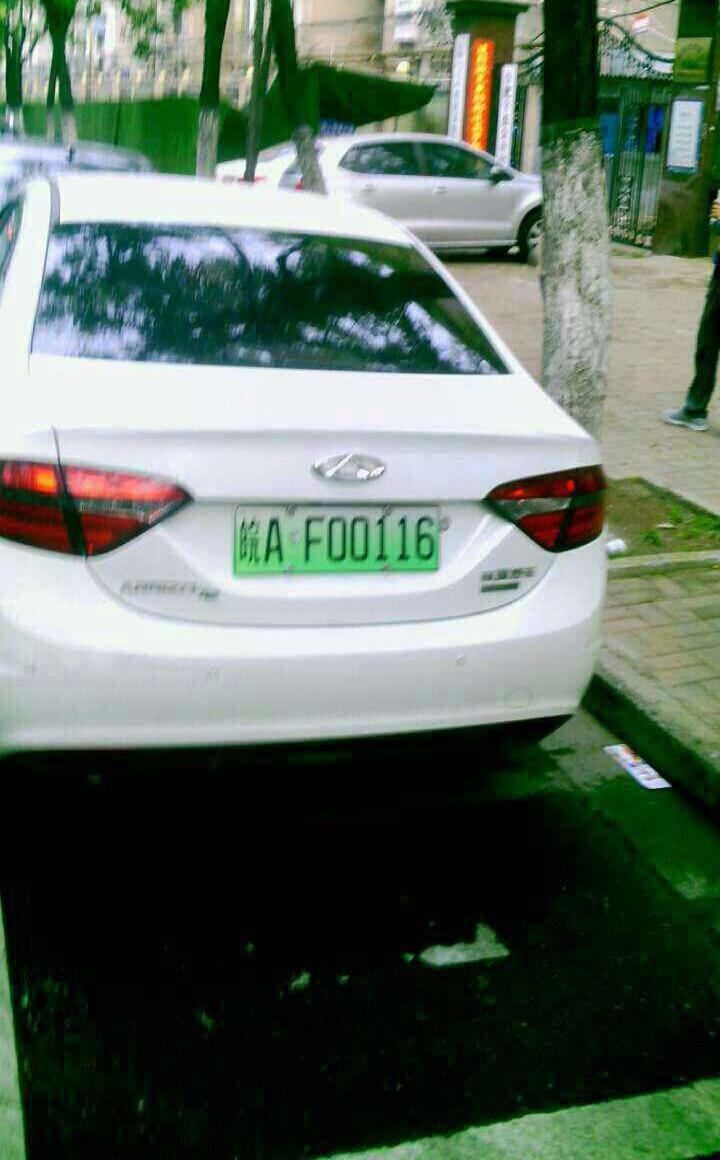car_id: (232, 504, 438, 573)
